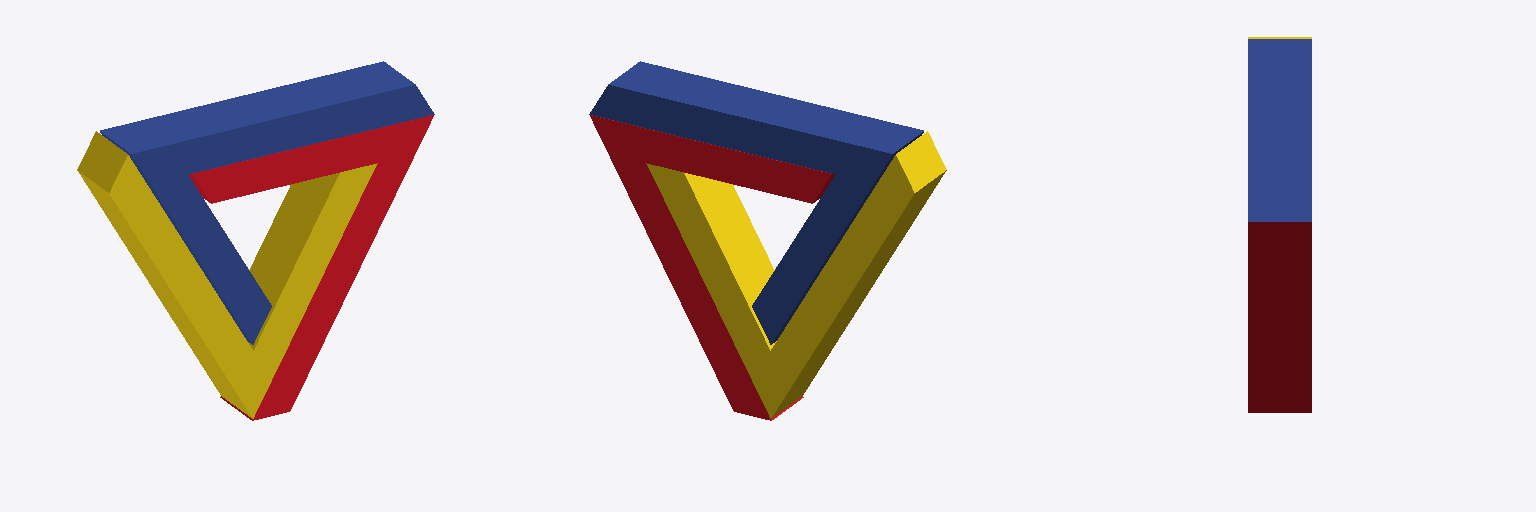
The model's file is tinker.obj.
3 renders of one model, left to right at view 1: azimuth 30°, elevation 25°; view 2: azimuth 150°, elevation 25°; view 3: azimuth 270°, elevation 25°, orthographic.
Parts seen in each view (by area): view 1: obj_0; view 2: obj_0; view 3: obj_0.
Part boxes in pixels (x1,y1,x2,y2): obj_0: (77,61,434,420); obj_0: (589,61,946,420); obj_0: (1248,37,1311,412).
Bounding box in the file's own units: 58.8 × 51.23 × 10.